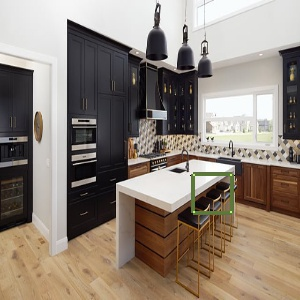square: (189, 170, 237, 216)
